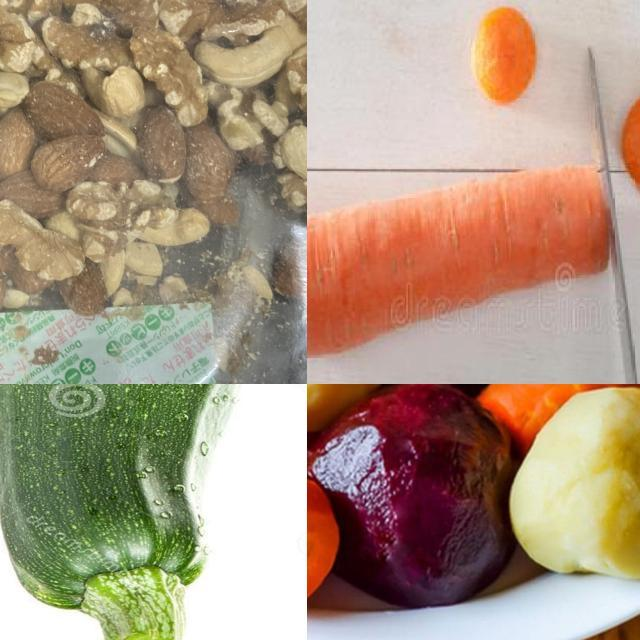beet: (308, 385, 507, 610)
carrot: (308, 161, 618, 365), (475, 385, 640, 460)
potato: (509, 385, 640, 578)
zucchini: (1, 385, 308, 640)
